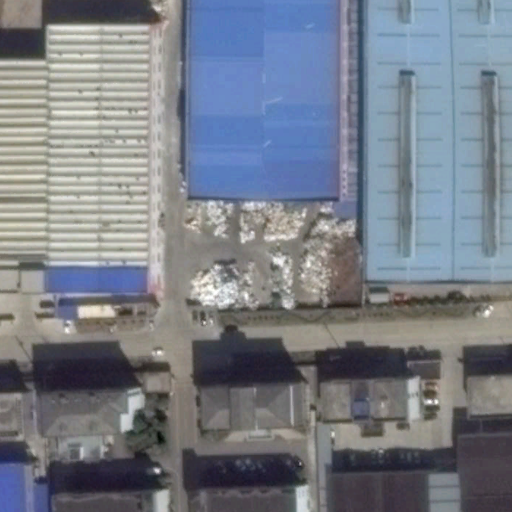msw: (186, 201, 356, 312)
